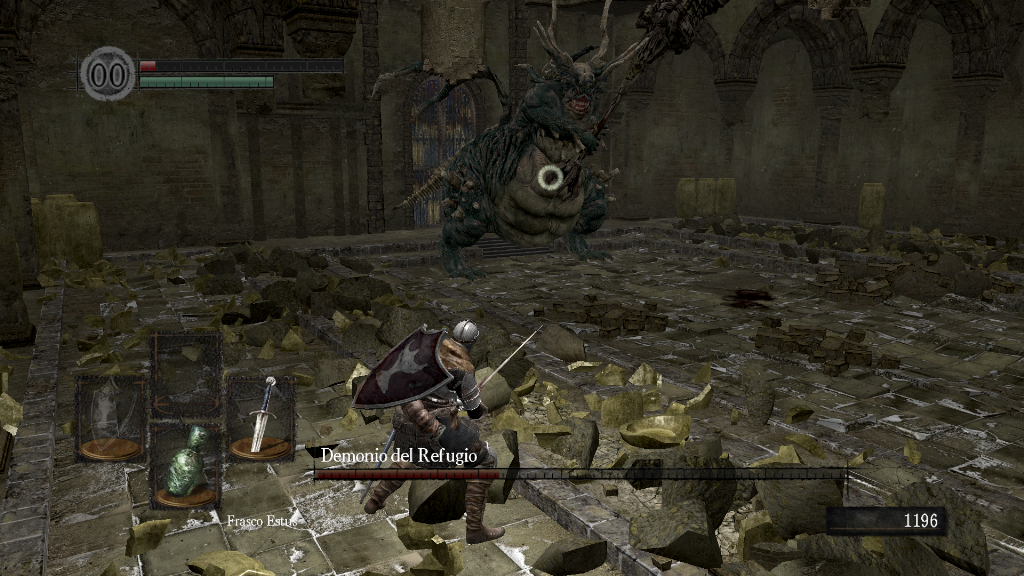asylumDemon: (368, 1, 730, 279)
bossHP: (314, 469, 847, 479)
health: (138, 58, 343, 71)
humanity: (80, 45, 136, 102)
player: (347, 318, 548, 546)
souls: (825, 506, 945, 536)
stamina: (138, 74, 274, 88)
